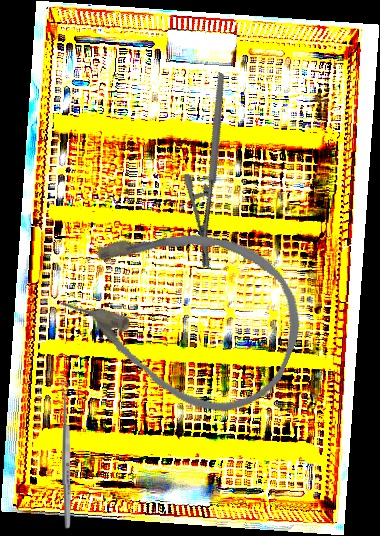Cannula: (43, 189, 323, 434)
Needle Holder: (143, 71, 285, 270)
Surgical Spoon: (60, 380, 73, 530)
